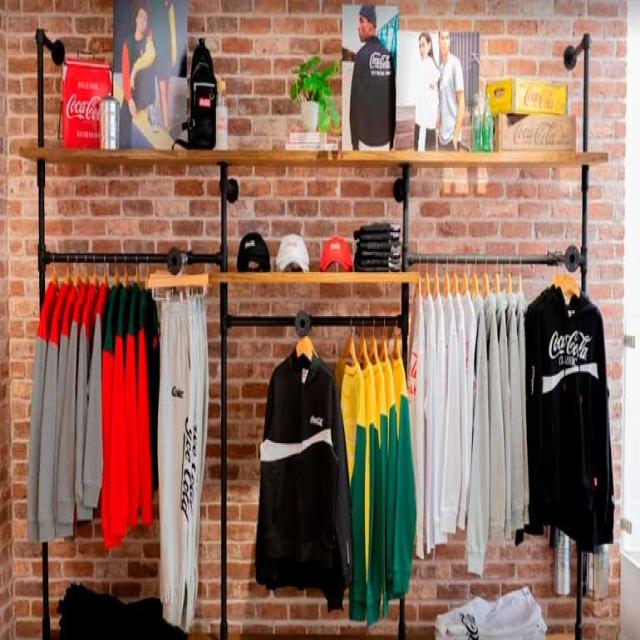coca cola: (544, 316, 596, 376), (68, 82, 111, 137)
